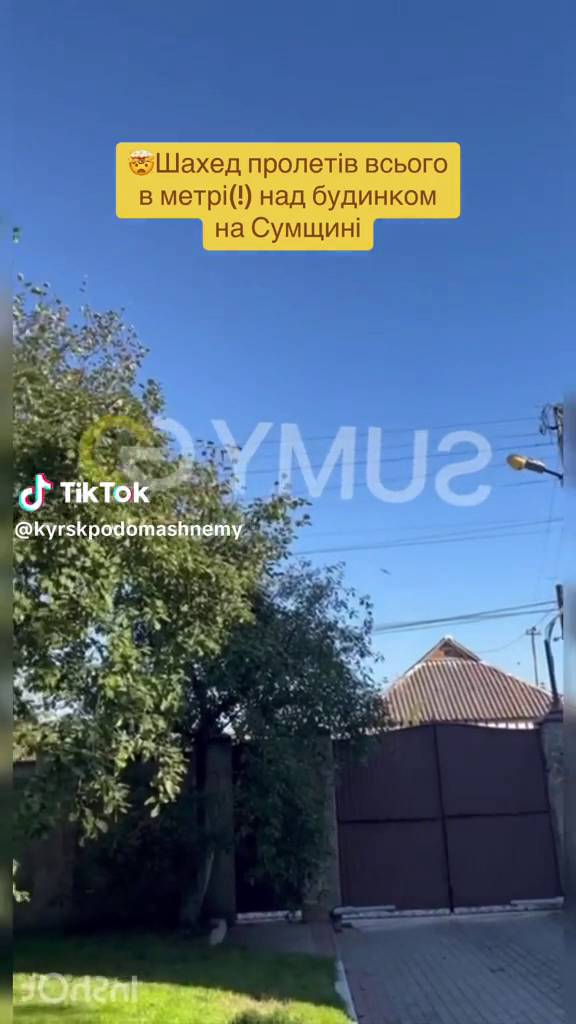shahed: (375, 565, 392, 581)
